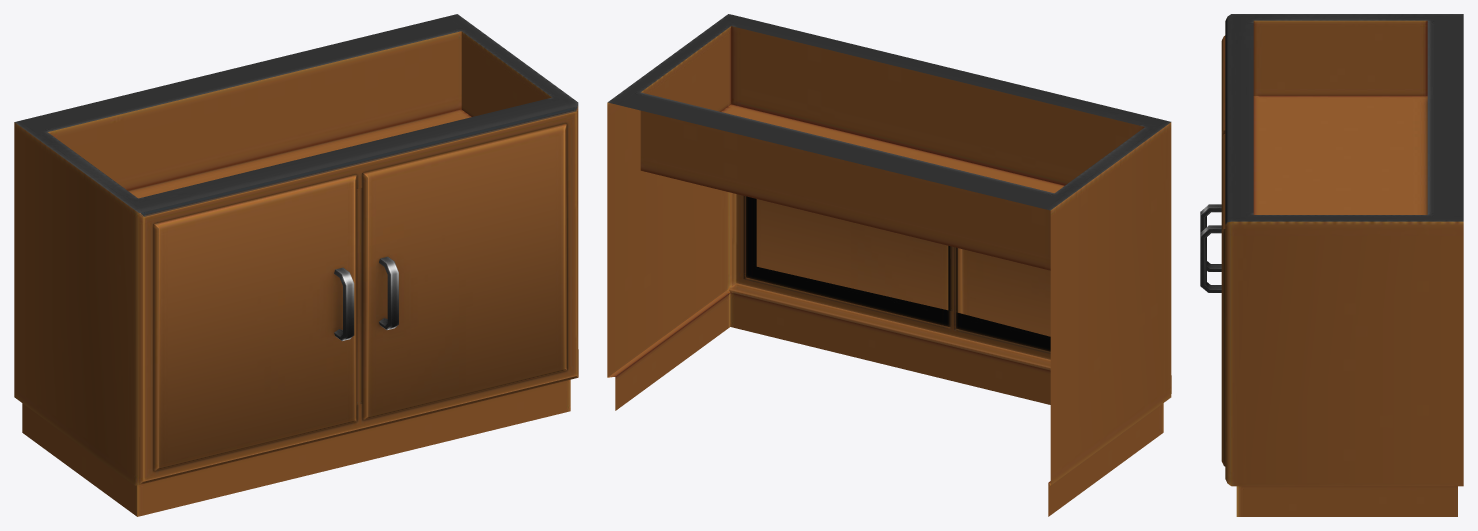
The model's file is SinkUnit.fbx.
3 renders of one model, left to right at view 1: azimuth 30°, elevation 25°; view 2: azimuth 150°, elevation 25°; view 3: azimuth 270°, elevation 25°, orthographic. The views are drawn at different scales.
Visible parts, largest first — view 1: SinkUnit; view 2: SinkUnit; view 3: SinkUnit.
Part boxes in pixels (bbox=[...]): SinkUnit: bbox=[14, 14, 578, 516]; SinkUnit: bbox=[607, 14, 1171, 516]; SinkUnit: bbox=[1200, 14, 1463, 516].
Bounding box in the file's own units: 160 × 85.62 × 107.
